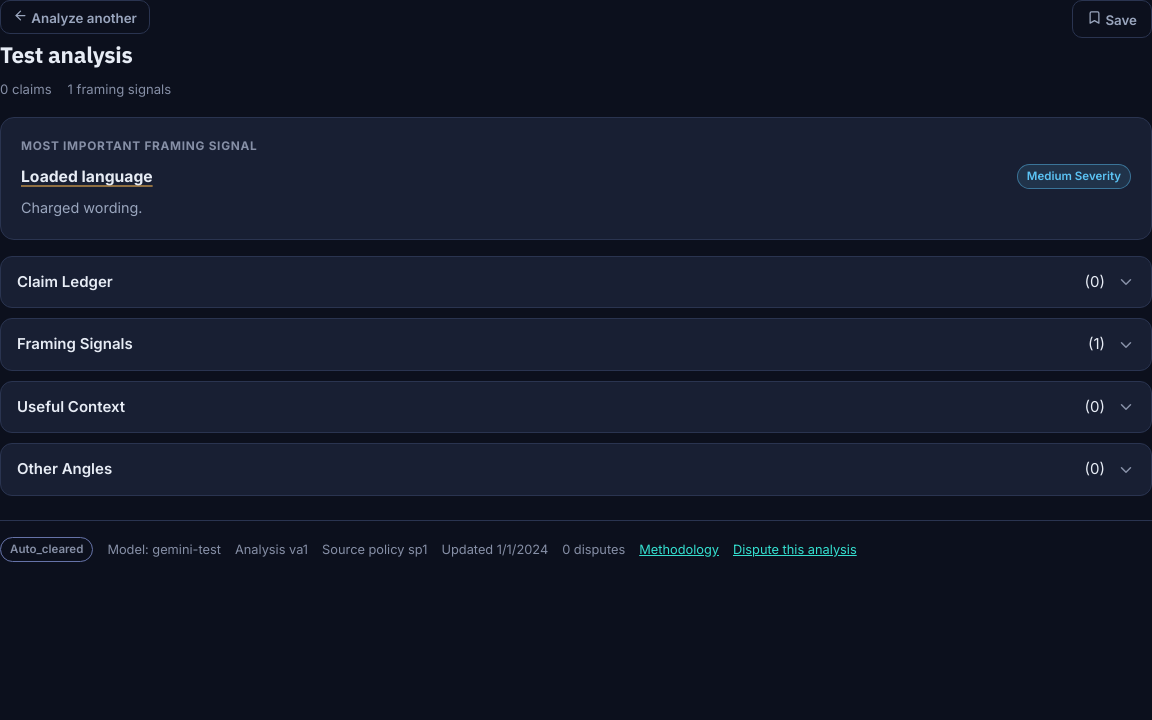
Test: Report footer + dispute modal wiring › links to methodology and opens the dispute modal from the footer
What coordinates should you click on to do the following:
click the button "Dispute this analysis"
I would click on:
 (795, 550)
Its box is [733,540,857,559].
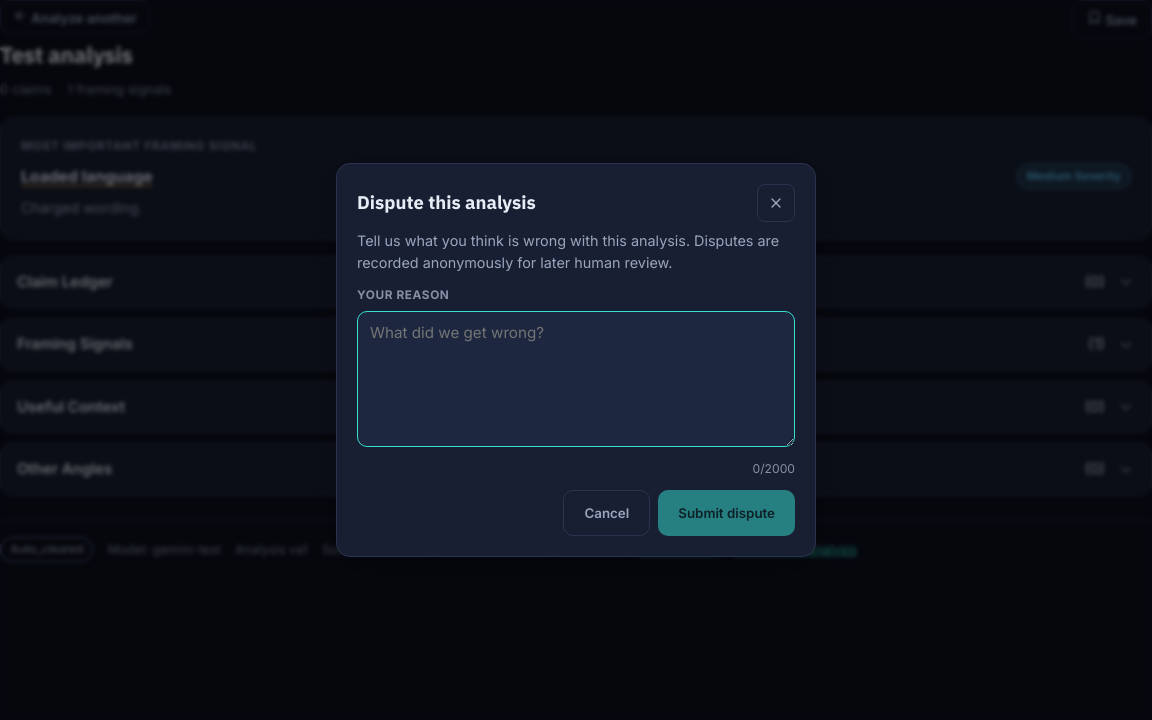
Check: the dialog is shown, box [336,163,816,557]
